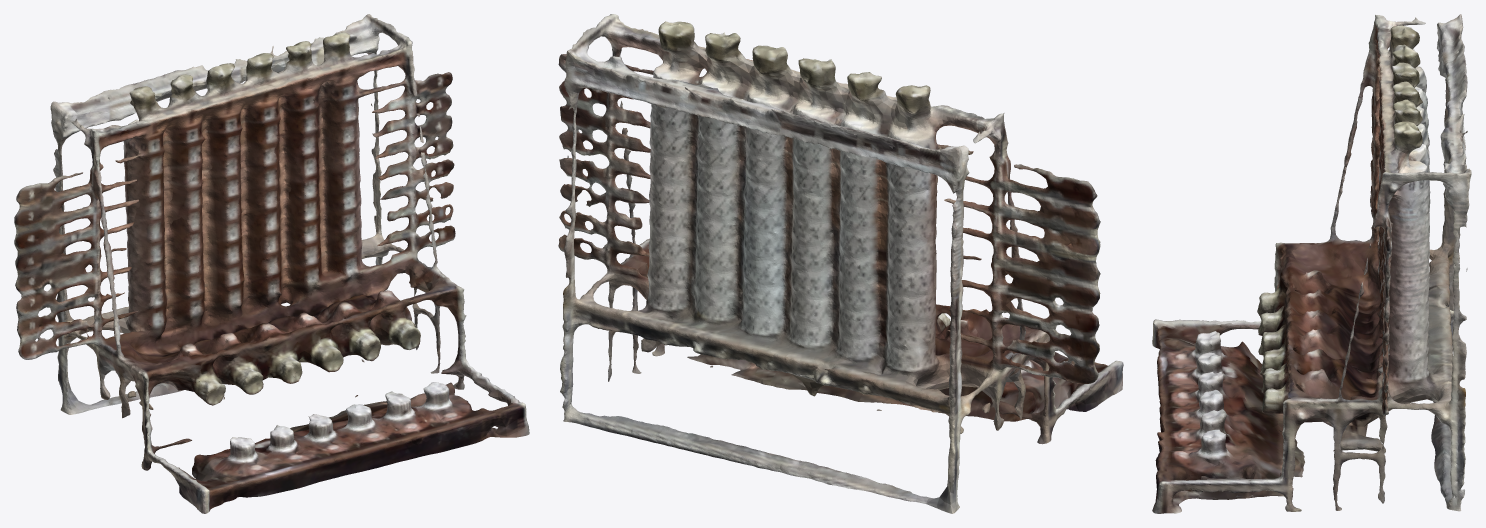
Rendered from シッカート計算器.glb.
The picture shows the model from 3 angles, left to right: view 1: azimuth 30°, elevation 25°; view 2: azimuth 150°, elevation 25°; view 3: azimuth 270°, elevation 25°; orthographic projection. The views are drawn at different scales.
Parts seen in each view (by area): view 1: mesh; view 2: mesh; view 3: mesh.
Boxes of the visible parts, x1=… form: mesh: x1=14, y1=14, x2=529, y2=513; mesh: x1=558, y1=14, x2=1123, y2=513; mesh: x1=1152, y1=14, x2=1471, y2=513.
Bounding box in the file's own units: 0.4468 × 0.3161 × 0.261.
1 material, 1 textured.
